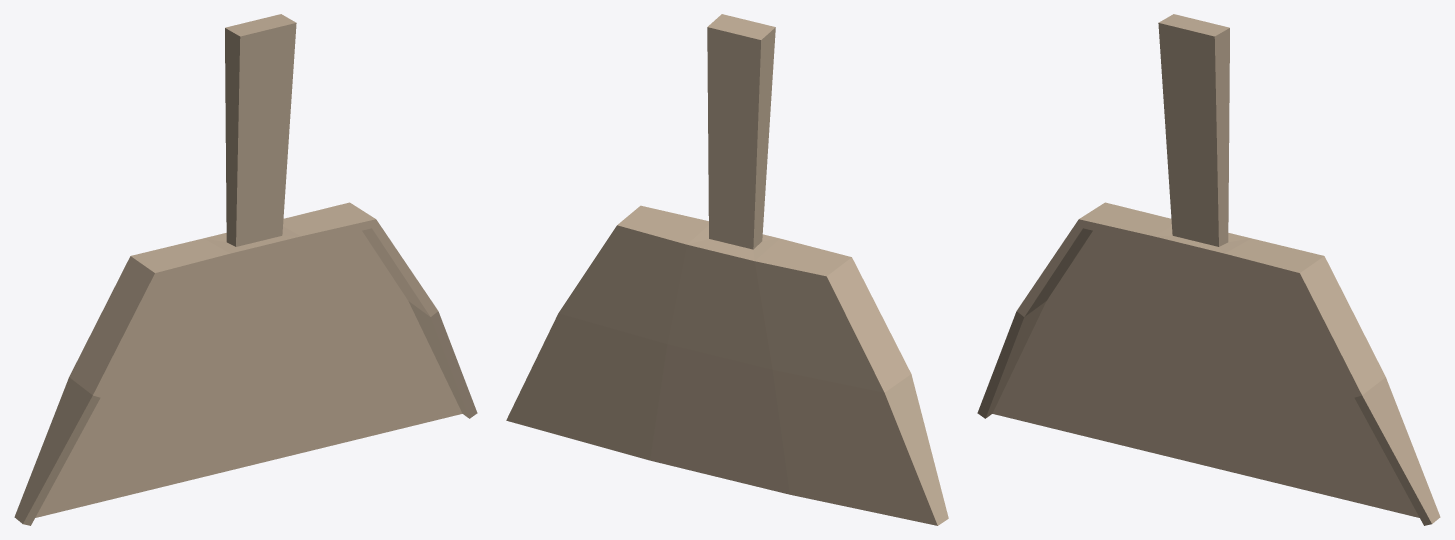
File: Scoop.fbx
3 renders of one model, left to right at view 1: azimuth 30°, elevation 25°; view 2: azimuth 150°, elevation 25°; view 3: azimuth 330°, elevation 25°, orthographic. The views are drawn at different scales.
Parts seen in each view (by area): view 1: Scoop; view 2: Scoop; view 3: Scoop.
Part boxes in pixels (bbox=[...]): Scoop: bbox=[14, 14, 477, 525]; Scoop: bbox=[506, 14, 948, 525]; Scoop: bbox=[977, 14, 1440, 525].
Bounding box in the file's own units: 38.12 × 36.53 × 4.39.
